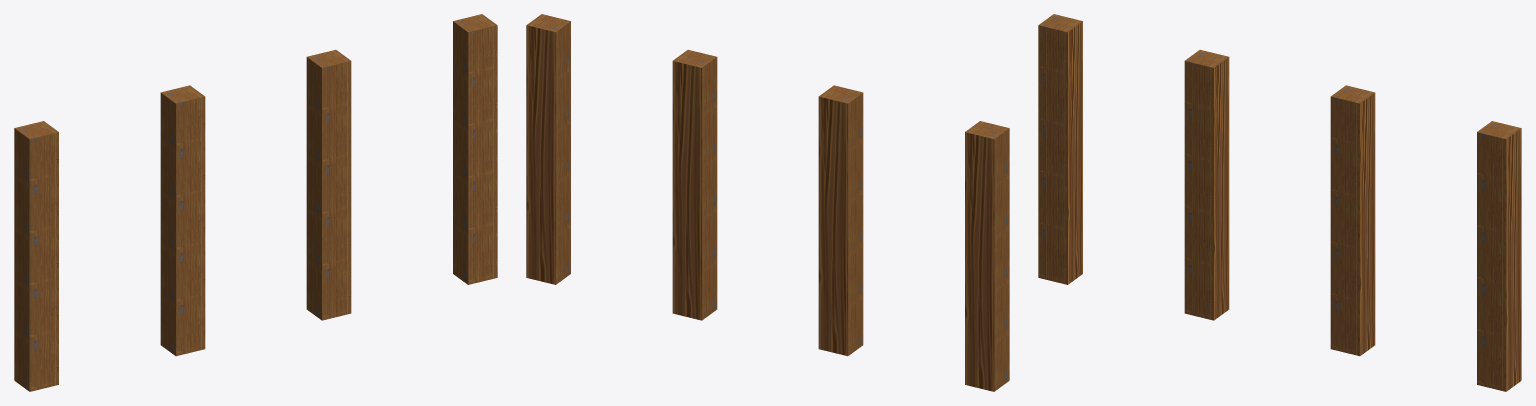
3 views of the same model, side by side, from view 1: azimuth 30°, elevation 25°; view 2: azimuth 150°, elevation 25°; view 3: azimuth 330°, elevation 25° (orthographic).
Visible parts, largest first — view 1: Cube.486; view 2: Cube.486; view 3: Cube.486.
Part boxes in pixels (x1=…): Cube.486: x1=14, y1=14, x2=497, y2=391; Cube.486: x1=526, y1=14, x2=1009, y2=391; Cube.486: x1=1038, y1=14, x2=1521, y2=391.
Bounding box in the file's own units: 239 × 124 × 13.56.
Materials: 1 (1 with a texture image).
